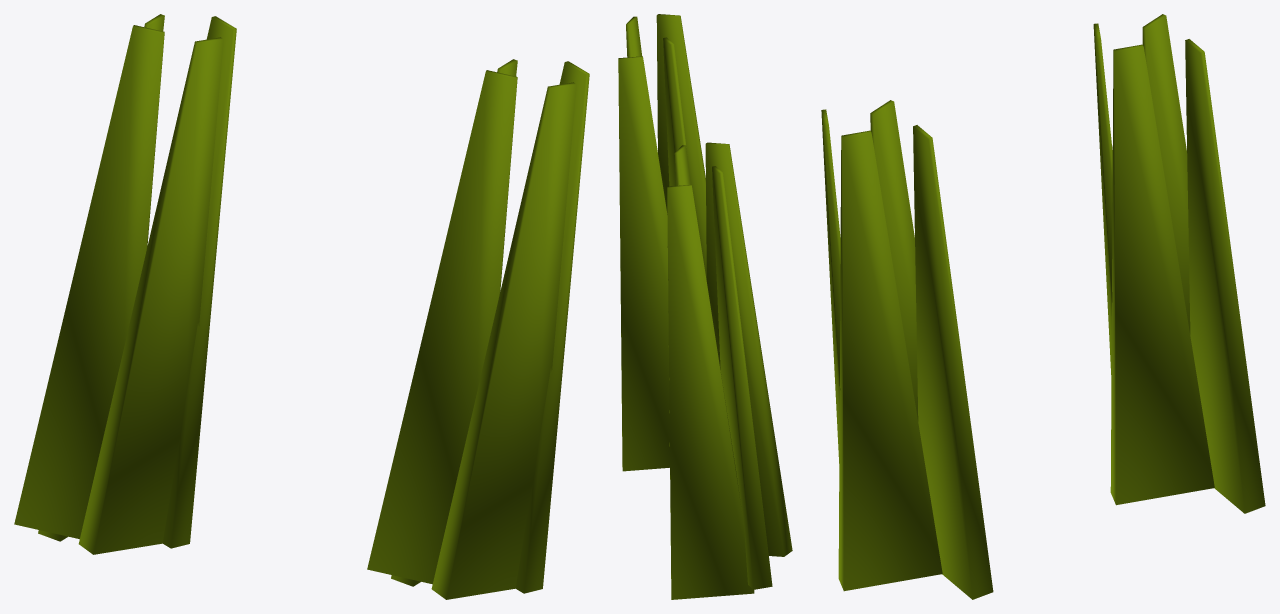
The model's file is Grass_10.fbx.
The picture shows the model from 3 angles, left to right: view 1: azimuth 30°, elevation 25°; view 2: azimuth 150°, elevation 25°; view 3: azimuth 270°, elevation 25°; orthographic projection. The views are drawn at different scales.
Parts seen in each view (by area): view 1: grass_10; view 2: grass_10; view 3: grass_10.
Boxes of the visible parts, <box> form: grass_10: <box>14,14,589,599</box>; grass_10: <box>618,14,792,599</box>; grass_10: <box>821,14,1265,599</box>.
Size of the model in its own units: 93.18 by 126 by 101.
Materials: 1 (1 with a texture image).
